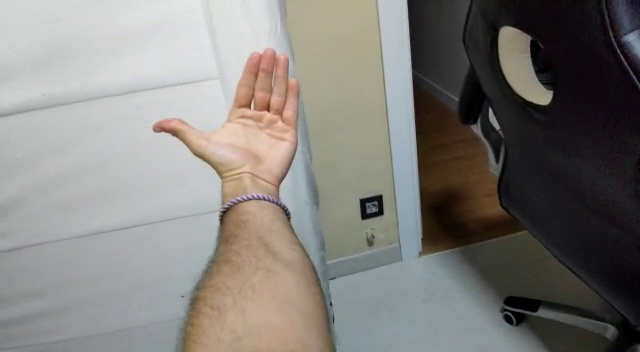Palm: (151, 41, 306, 188)
